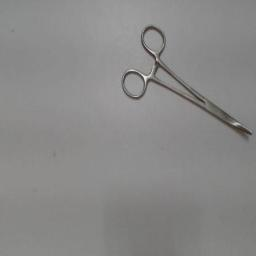Crile Artery Forceps: (118, 19, 256, 141)
